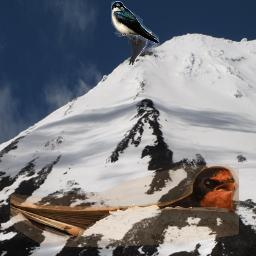Swallow: (10, 164, 239, 247), (111, 1, 159, 44)
Woodpecker: (127, 29, 152, 65)
